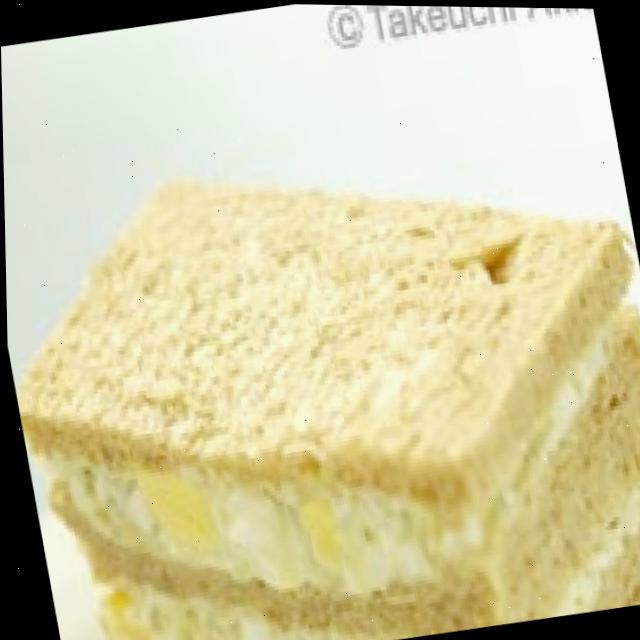三明治: (2, 100, 640, 640)
